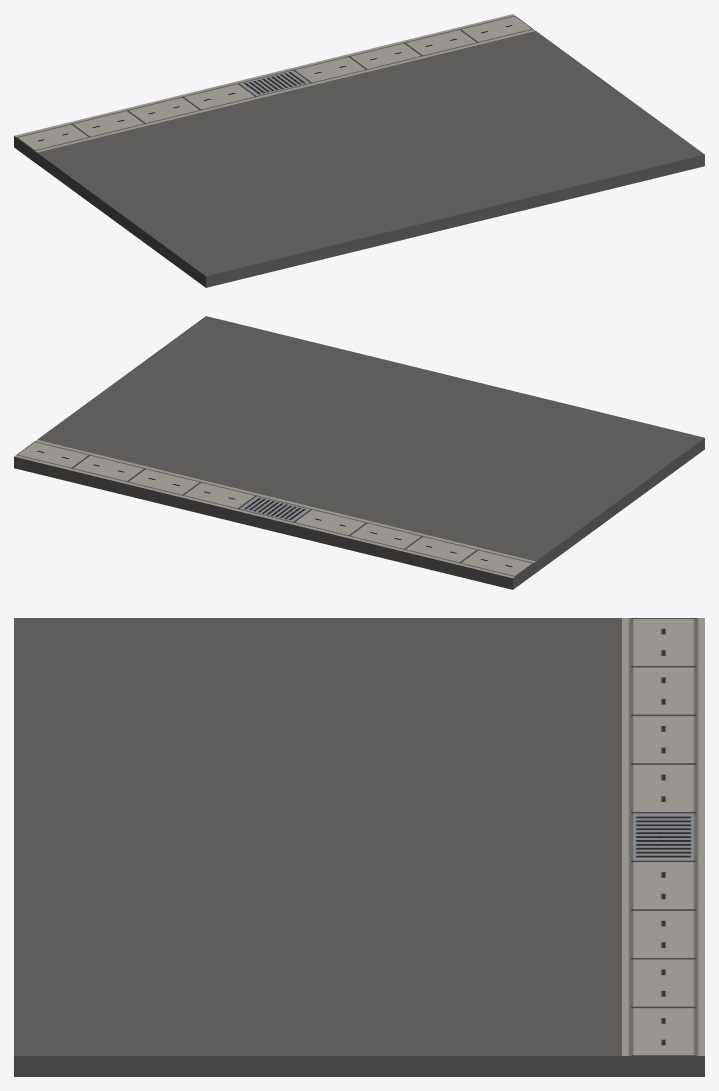
The model's file is SM_Ground_Alley_300x450_01.fbx.
3 views of the same model, one above another, from view 1: azimuth 30°, elevation 25°; view 2: azimuth 150°, elevation 25°; view 3: azimuth 270°, elevation 25° (orthographic). The views are drawn at different scales.
Parts seen in each view (by area): view 1: SM_Ground_Alley_300x450_01; view 2: SM_Ground_Alley_300x450_01; view 3: SM_Ground_Alley_300x450_01.
Boxes of the visible parts, x1=… form: SM_Ground_Alley_300x450_01: x1=14, y1=14, x2=704, y2=287; SM_Ground_Alley_300x450_01: x1=14, y1=316, x2=704, y2=589; SM_Ground_Alley_300x450_01: x1=14, y1=618, x2=704, y2=1076.
Size of the model in its own units: 4.5 by 0.1 by 3.
1 material, 1 textured.
